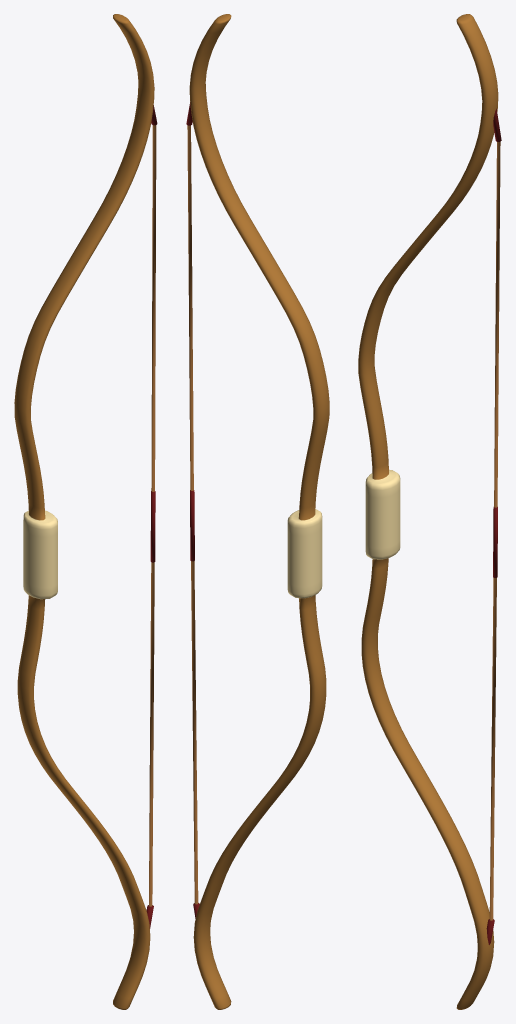
Rendered from bow.glb.
The picture shows the model from 3 angles, left to right: view 1: azimuth 30°, elevation 25°; view 2: azimuth 150°, elevation 25°; view 3: azimuth 330°, elevation 25°; orthographic projection.
Parts seen in each view (by area): view 1: Bow; view 2: Bow; view 3: Bow.
Part boxes in pixels (x1,y1,x2,y2): Bow: (14, 14, 157, 1009); Bow: (186, 14, 329, 1009); Bow: (358, 14, 501, 1009).
Size of the model in its own units: 0.2452 by 1.65 by 0.0654.
